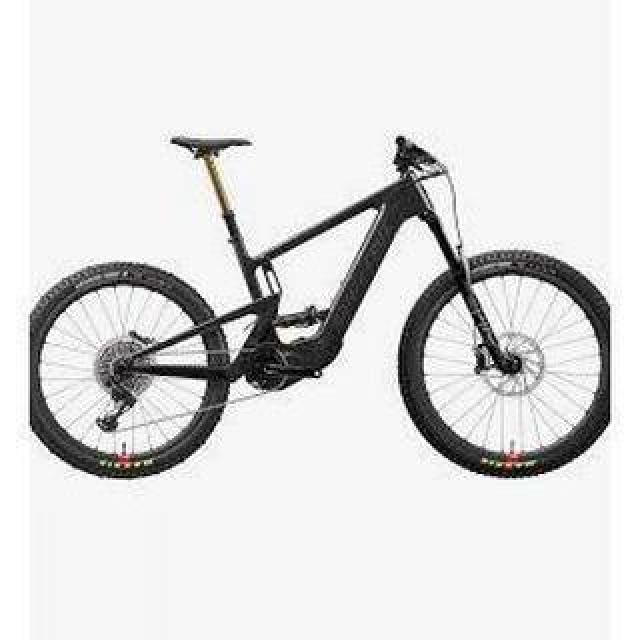Person: (20, 123, 610, 483)
